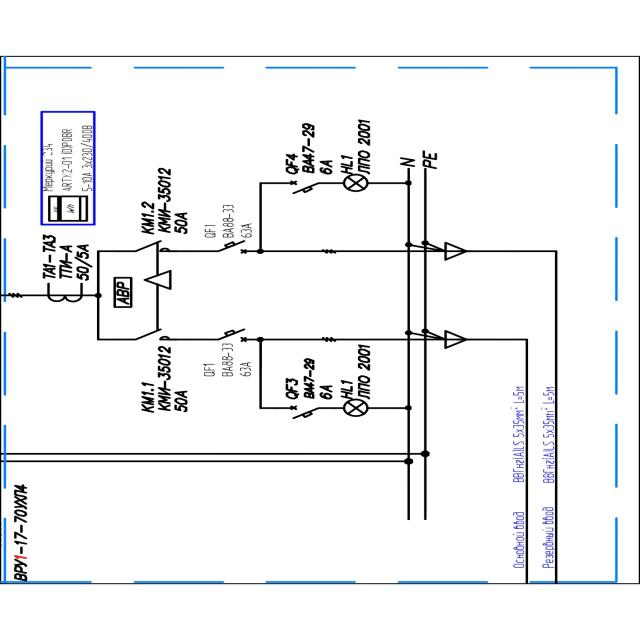-: (41, 123, 93, 192), (156, 345, 193, 414), (157, 166, 191, 237), (300, 121, 334, 176), (12, 483, 30, 582), (301, 353, 336, 401), (57, 232, 90, 282), (219, 201, 254, 240), (356, 117, 377, 177), (218, 343, 253, 377), (356, 344, 373, 401)
AVR: (112, 275, 135, 311)
HL: (342, 172, 370, 194), (341, 399, 370, 419)
KM: (133, 240, 172, 255), (132, 328, 171, 342)
QF: (286, 404, 322, 422), (286, 180, 322, 196), (216, 240, 251, 256), (216, 327, 251, 343)
TT: (46, 282, 85, 304)
WH: (46, 194, 92, 224)
